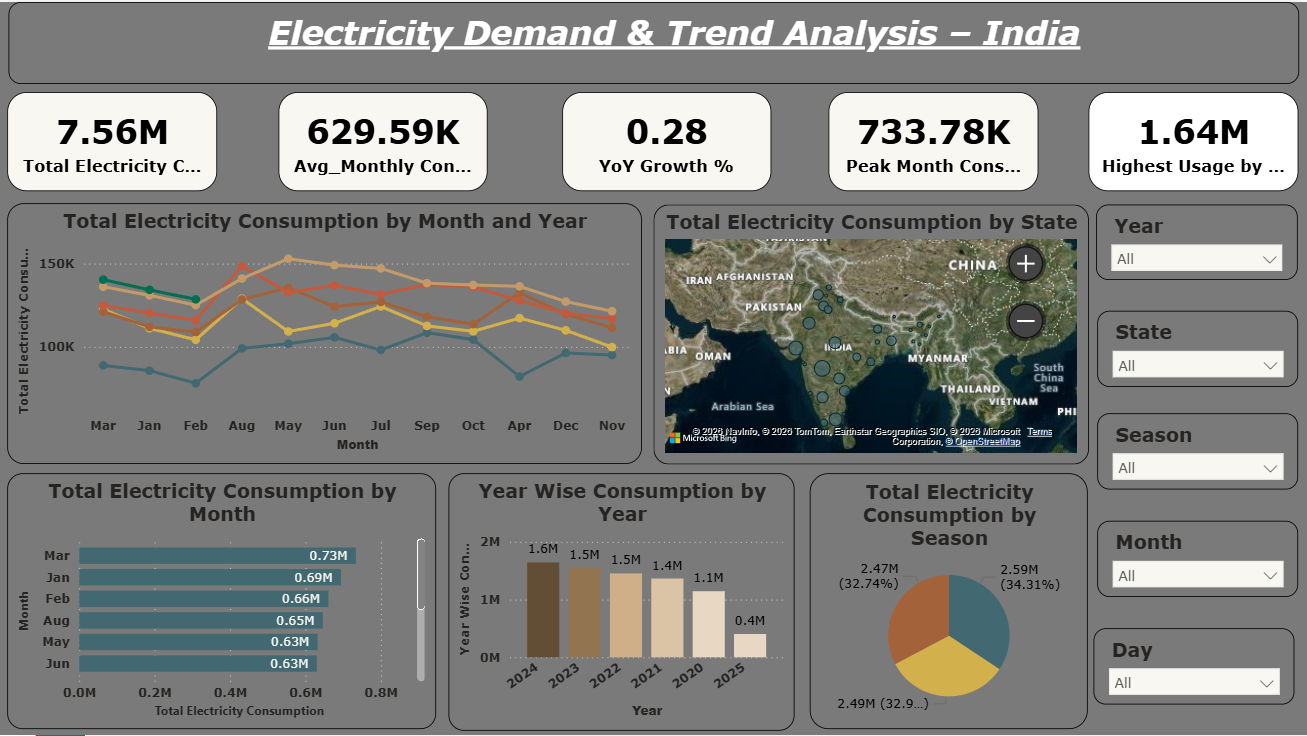

The page's visual inventory and layout, read from the dashboard file:
{"tool":"powerbi","page":{"name":"Page 1","canvas":[1280,720],"ordinal":0},"visuals":[{"type":"card","fields":{"Values":["Electricity.Total Electricity Consumption"]},"box":[10.9,88.1,205.1,96.5],"z":0},{"type":"card","fields":{"Values":["Electricity.Avg_Monthly Consumption"]},"box":[275.1,88.1,203.9,96.5],"z":1000},{"type":"card","fields":{"Values":["Electricity.YoY Growth %"]},"box":[552.5,88.1,203.9,96.5],"z":2000},{"type":"card","fields":{"Values":["Electricity.Peak Month Consumption"]},"box":[811.9,88.1,205.1,96.5],"z":3000},{"type":"card","fields":{"Values":["Electricity.Highest Usage by Year"]},"box":[1065.3,88.1,205.1,96.5],"z":4000},{"type":"textbox","box":[12.1,0,1259.5,79.6],"z":5000},{"type":"lineChart","fields":{"Category":["Electricity.Month"],"Y":["Electricity.Total Electricity Consumption"],"Series":["Electricity.Year"]},"box":[10.9,196.6,618.9,254.6],"z":6000},{"type":"columnChart","fields":{"Category":["Electricity.Year"],"Y":["Electricity.Year Wise Consumption"]},"box":[441.6,459.7,337.8,250.9],"z":7000},{"type":"map","fields":{"Category":["Electricity.State"],"Size":["Electricity.Total Electricity Consumption"]},"box":[641.8,197.9,424.7,253.4],"z":8000},{"type":"clusteredBarChart","fields":{"Category":["Electricity.Month"],"Y":["Electricity.Total Electricity Consumption"]},"box":[10.9,459.7,418.6,249.7],"z":9000},{"type":"pieChart","fields":{"Category":["Electricity.Season"],"Y":["Electricity.Total Electricity Consumption"]},"box":[793.8,459.7,271.4,249.7],"z":10000},{"type":"slicer","fields":{"Values":["Electricity.Year"]},"box":[1073.7,197.9,196.6,73.6],"z":11000},{"type":"slicer","fields":{"Values":["Electricity.State"]},"box":[1074,301.3,196.1,74],"z":12000},{"type":"slicer","fields":{"Values":["Electricity.Season"]},"box":[1074,401.3,196.1,74],"z":13000},{"type":"slicer","fields":{"Values":["Electricity.Month"]},"box":[1074,506.5,196.1,74],"z":14000},{"type":"slicer","fields":{"Values":["Electricity.Day"]},"box":[1070.1,610.4,196.1,74],"z":15000}]}

Visuals, with their boxes in screenshot pixels (x1, y1, x2, y2), scaled from the page's 1280x720 canvas onto the 1307x736 screenshot:
card - Electricity.Total Electricity Consumption: left=11, top=90, right=221, bottom=189
card - Electricity.Avg_Monthly Consumption: left=281, top=90, right=489, bottom=189
card - Electricity.YoY Growth %: left=564, top=90, right=772, bottom=189
card - Electricity.Peak Month Consumption: left=829, top=90, right=1038, bottom=189
card - Electricity.Highest Usage by Year: left=1088, top=90, right=1297, bottom=189
textbox: left=12, top=0, right=1298, bottom=81
lineChart - Electricity.Month x Electricity.Total Electricity Consumption: left=11, top=201, right=643, bottom=461
columnChart - Electricity.Year x Electricity.Year Wise Consumption: left=451, top=470, right=796, bottom=726
map - Electricity.State x Electricity.Total Electricity Consumption: left=655, top=202, right=1089, bottom=461
clusteredBarChart - Electricity.Month x Electricity.Total Electricity Consumption: left=11, top=470, right=439, bottom=725
pieChart - Electricity.Season x Electricity.Total Electricity Consumption: left=811, top=470, right=1088, bottom=725
slicer - Electricity.Year: left=1096, top=202, right=1297, bottom=278
slicer - Electricity.State: left=1097, top=308, right=1297, bottom=384
slicer - Electricity.Season: left=1097, top=410, right=1297, bottom=486
slicer - Electricity.Month: left=1097, top=518, right=1297, bottom=593
slicer - Electricity.Day: left=1093, top=624, right=1293, bottom=700
